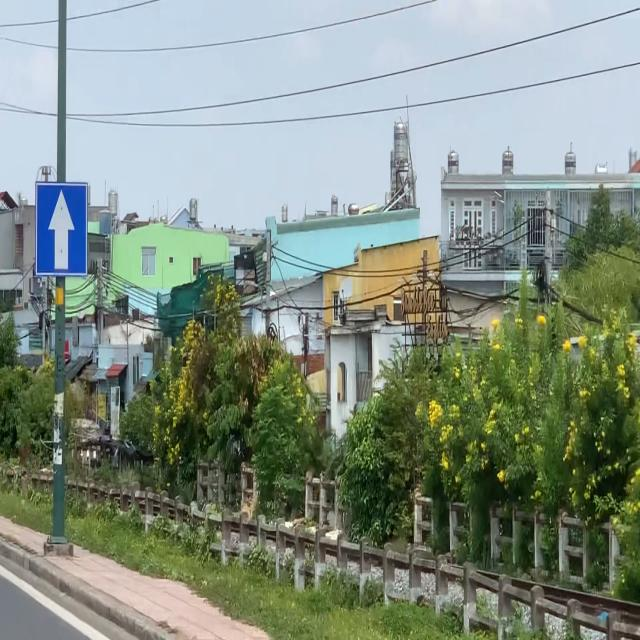Chi dan: (34, 177, 89, 284)
